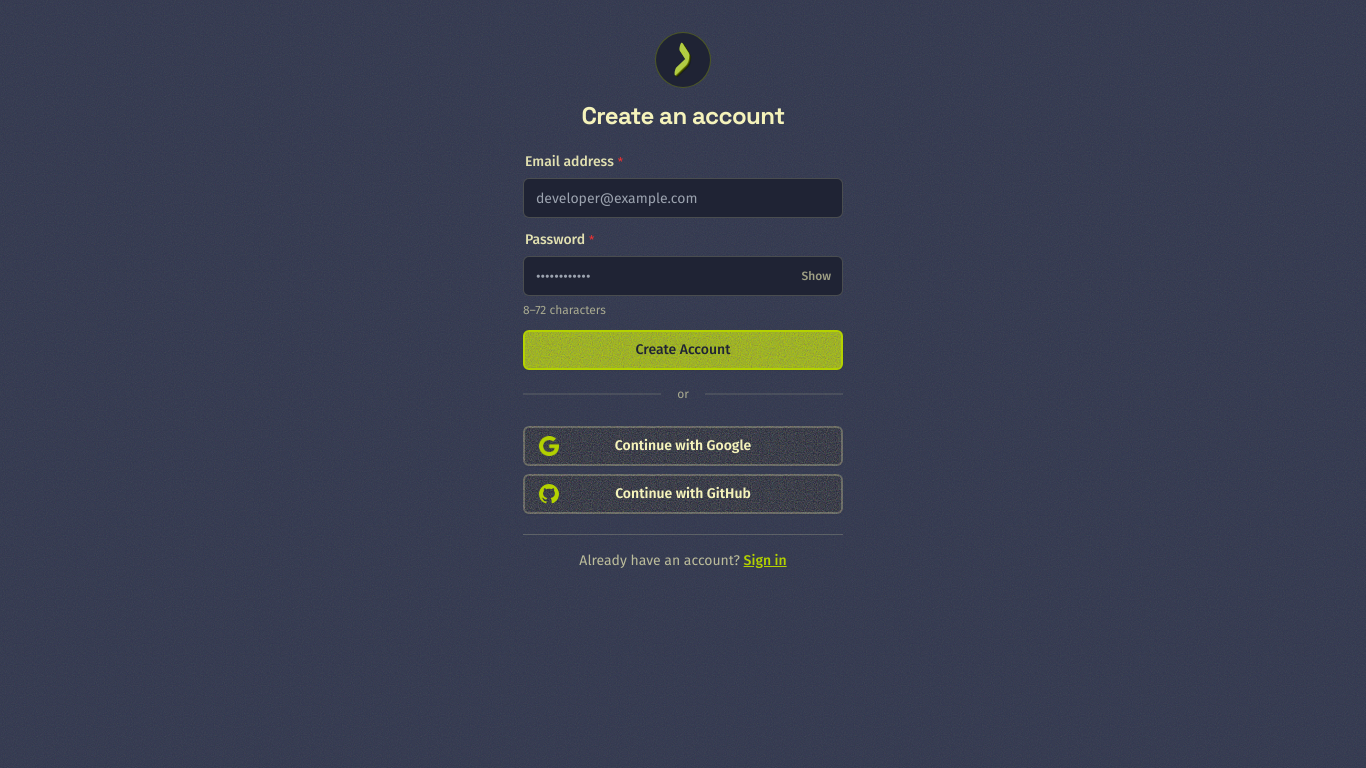
Scenario: OAuth auth forms › shows a retryable toast when starting a provider fails
What coordinates should you click on to do the following:
click the button "Continue with Google"
I would click on:
 (683, 446)
Its box is [523, 426, 843, 466].
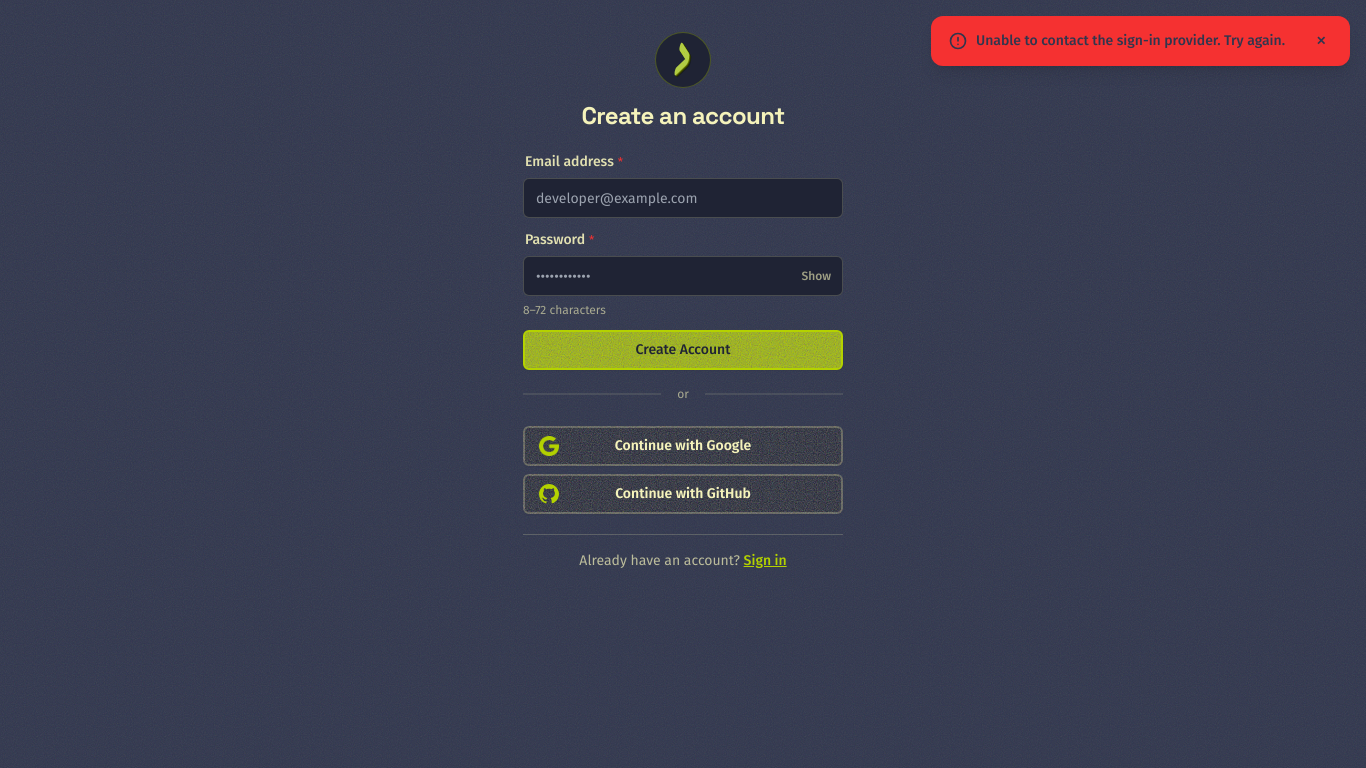
Expected: the text "Unable to contact the sign-in provider. Try again." is shown, [976, 31, 1285, 51]
